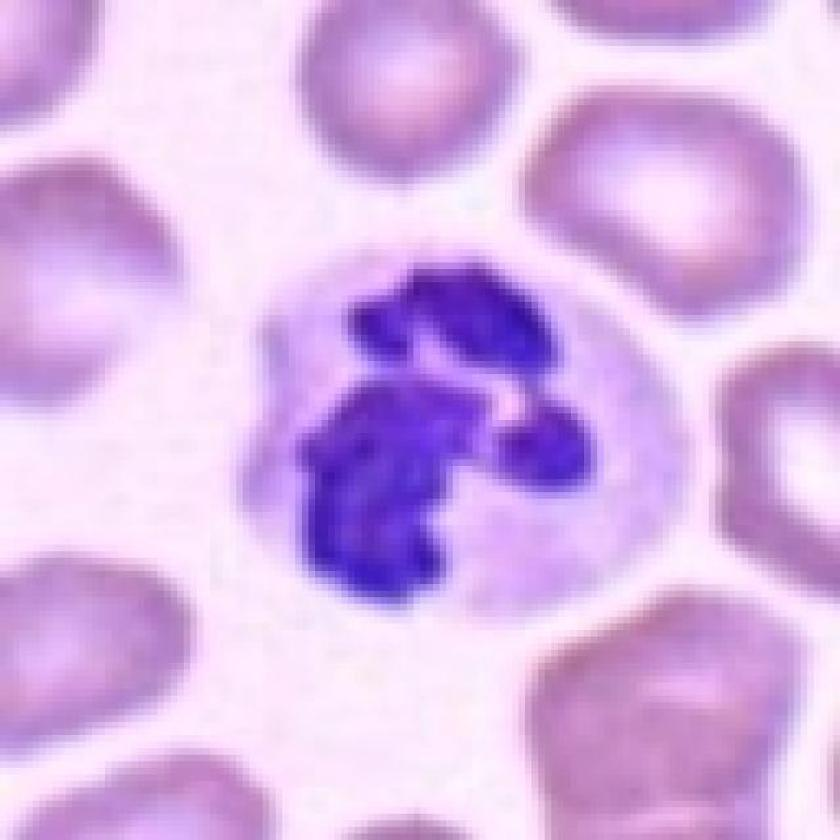neutrophil: (131, 212, 719, 656)
